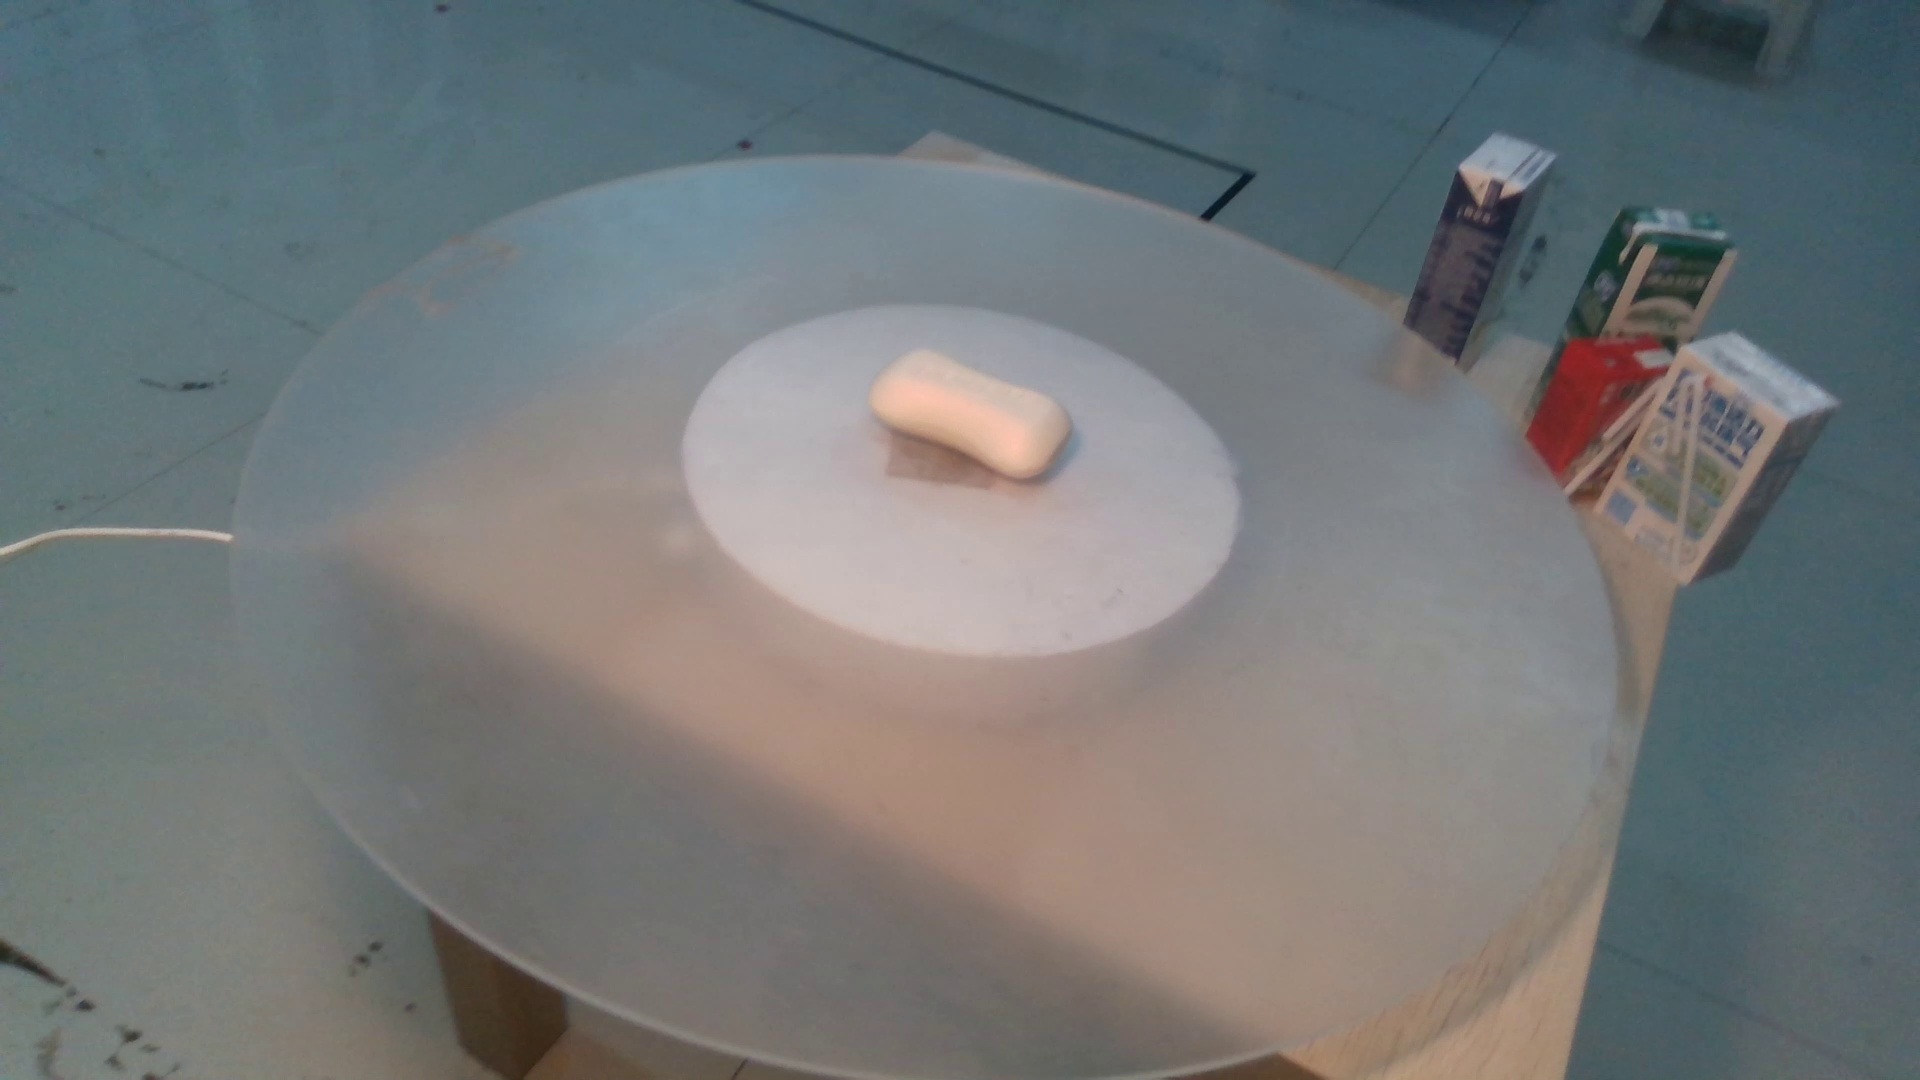CA003_1: (843, 326, 1138, 506)
